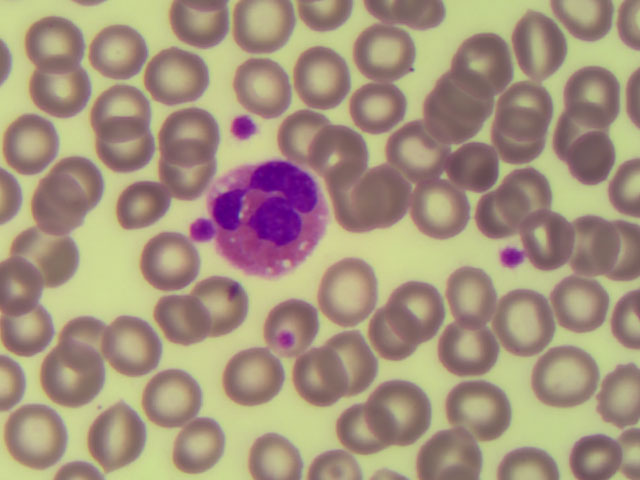Platelets: (187, 217, 214, 244), (230, 113, 257, 140), (500, 246, 522, 270)
RBC: (241, 421, 300, 480), (329, 404, 388, 463), (420, 421, 479, 480), (560, 421, 619, 480), (29, 15, 88, 73), (31, 60, 90, 118), (90, 17, 149, 75), (87, 78, 146, 136), (96, 128, 155, 186), (143, 46, 202, 104), (164, 106, 223, 164), (155, 147, 214, 205), (110, 179, 169, 237), (56, 154, 115, 212), (28, 176, 87, 234), (4, 117, 63, 175), (16, 220, 75, 278), (1, 304, 60, 362), (46, 351, 105, 409), (48, 313, 107, 371), (101, 321, 160, 379), (155, 295, 214, 353), (189, 280, 248, 338), (133, 236, 192, 294), (265, 295, 324, 353), (230, 340, 289, 398), (153, 367, 212, 425), (98, 408, 157, 466), (16, 403, 75, 461), (170, 416, 229, 474), (367, 383, 426, 441), (289, 351, 348, 409), (325, 330, 384, 388), (319, 258, 378, 316), (356, 305, 415, 363), (382, 277, 441, 335), (439, 263, 498, 321), (436, 315, 495, 373), (449, 380, 508, 438), (581, 363, 640, 421), (540, 350, 599, 408), (498, 294, 557, 352), (539, 278, 598, 336), (564, 221, 623, 279), (520, 212, 579, 270), (502, 167, 561, 225), (469, 191, 528, 249), (417, 182, 476, 240), (440, 138, 499, 196), (400, 126, 459, 184), (417, 88, 476, 146), (433, 58, 492, 116), (448, 38, 507, 96), (511, 17, 570, 75), (502, 78, 561, 136), (491, 111, 550, 169), (554, 129, 613, 187), (547, 101, 606, 159), (565, 66, 624, 124), (350, 169, 409, 227), (330, 181, 389, 239), (314, 121, 373, 179), (288, 108, 347, 166), (344, 90, 403, 148), (362, 19, 421, 77), (295, 49, 354, 107), (237, 53, 296, 111), (234, 4, 293, 62), (1, 257, 59, 315), (167, 1, 226, 58)
